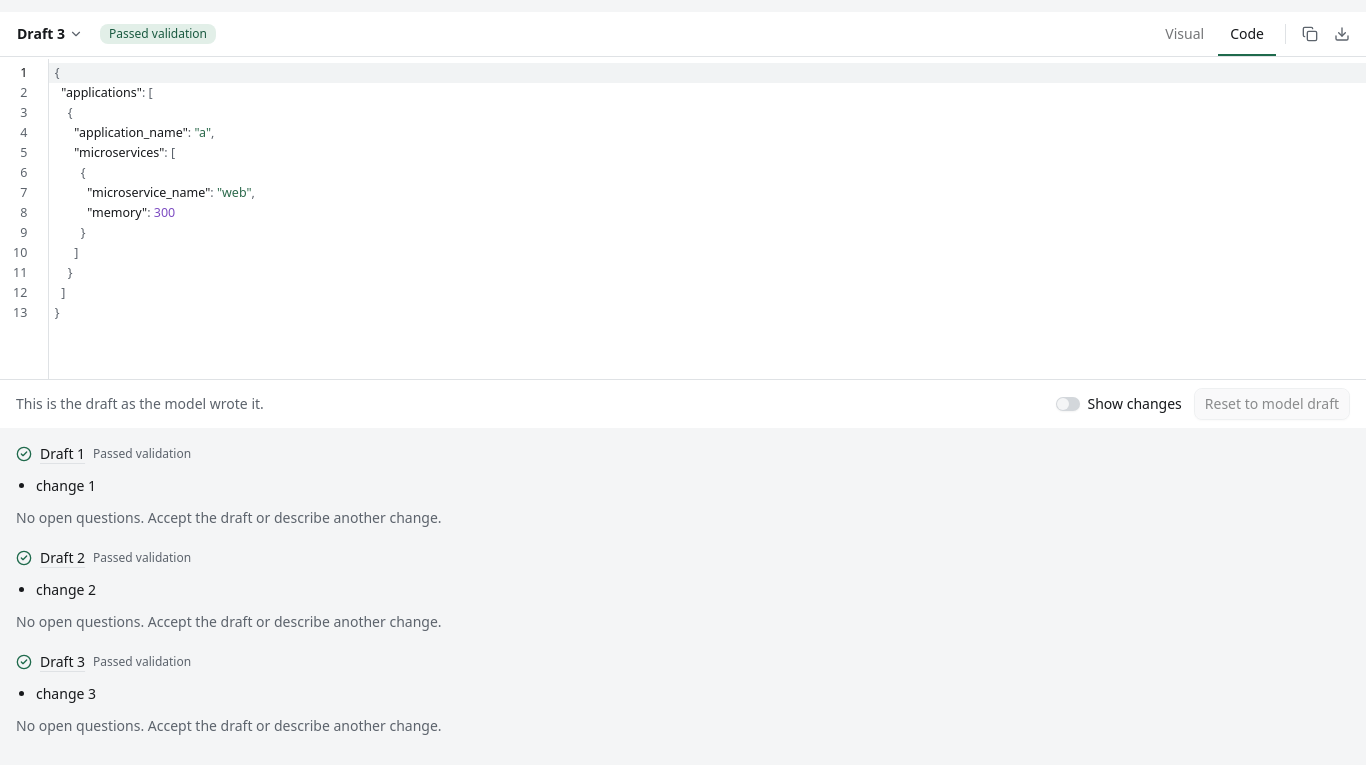
Test: viewing an older draft › turns Show changes off when the viewing ends
Click the button with aria-label "View draft 2 in the SLA pane". click: (63, 558)
box: [40, 548, 85, 568]
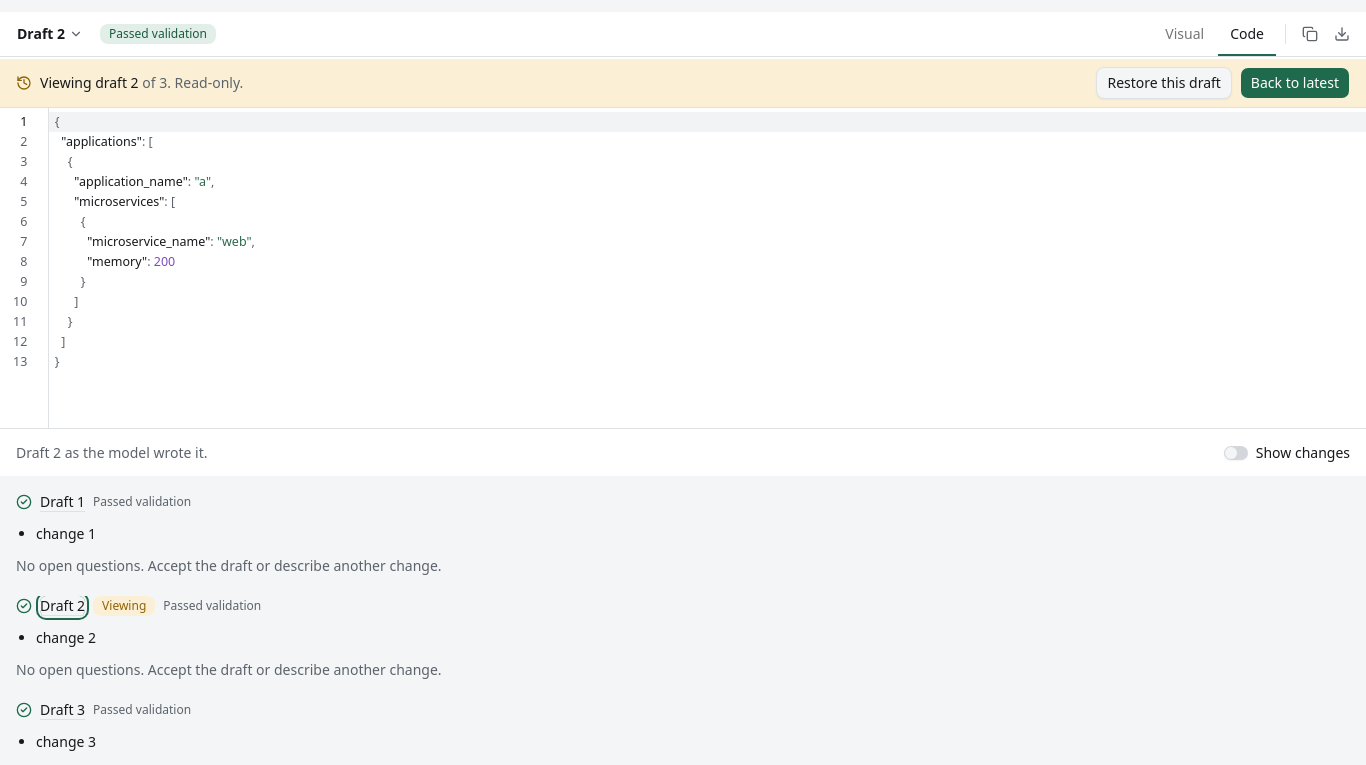
Click the switch named "Show changes". click: (1236, 452)
box: [1224, 446, 1248, 460]
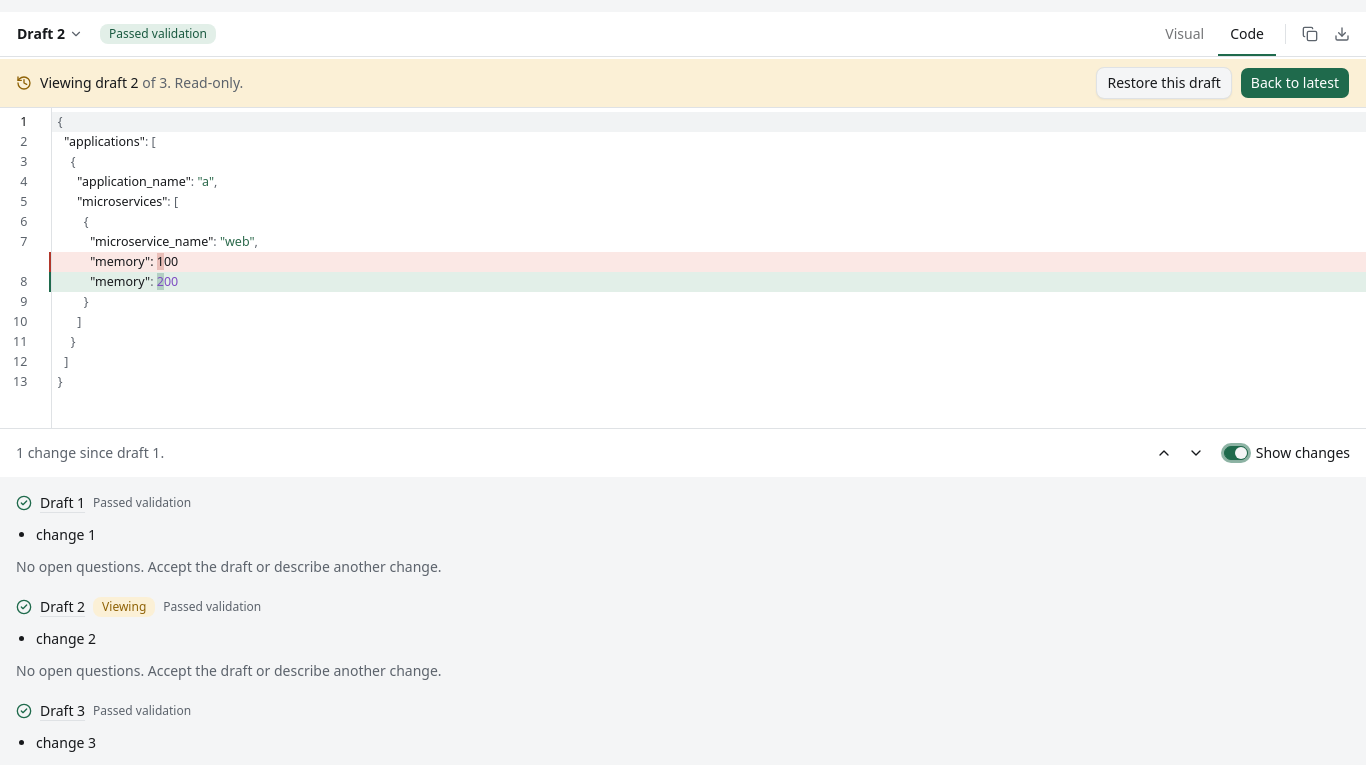
Check: the switch named "Show changes" is checked, box [1224, 446, 1248, 460]
Click the button "Back to latest". click: (1295, 83)
box: [1240, 67, 1350, 99]
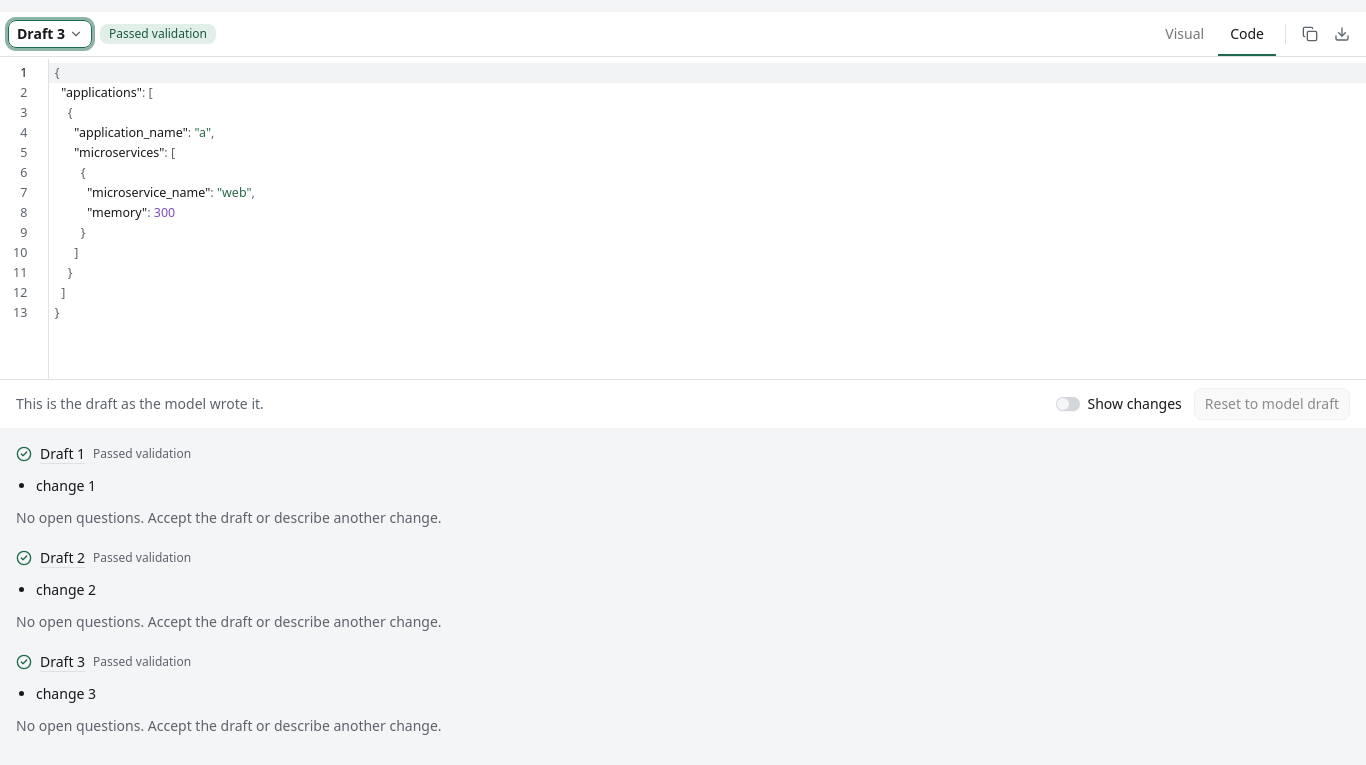
Check: the switch named "Show changes" is not checked, box [1056, 397, 1080, 411]
